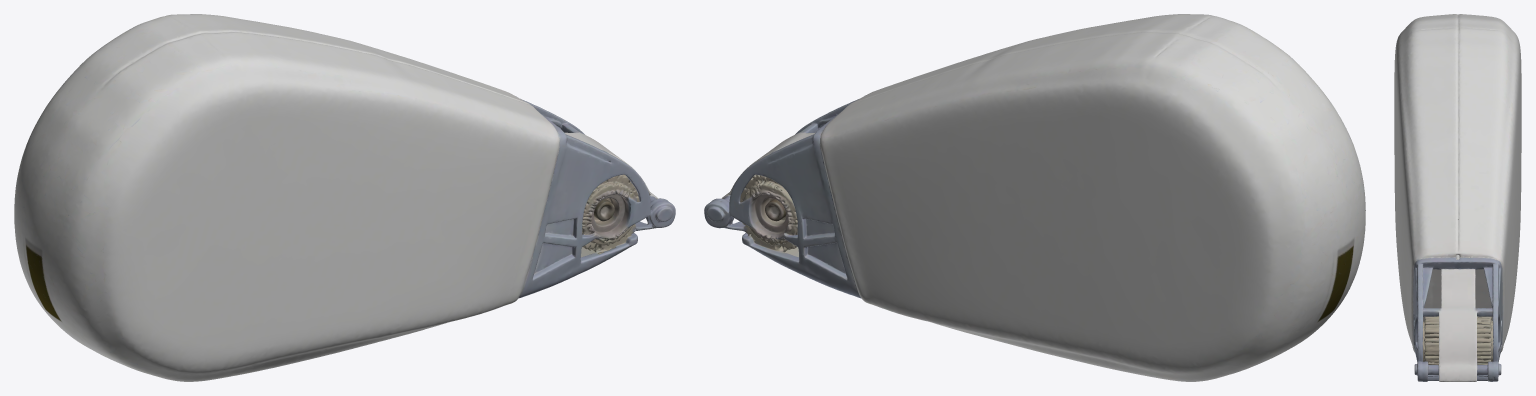
The model's file is original.glb.
3 renders of one model, left to right at view 1: azimuth 30°, elevation 25°; view 2: azimuth 150°, elevation 25°; view 3: azimuth 270°, elevation 25°, orthographic. The views are drawn at different scales.
Visible parts, largest first — view 1: world; view 2: world; view 3: world.
Boxes of the visible parts, <box> form: world: <box>14,14,675,381</box>; world: <box>704,14,1365,381</box>; world: <box>1394,14,1521,381</box>.
Size of the model in its own units: 0.9992 by 0.51 by 0.2504.
Materials: 1 (1 with a texture image).
